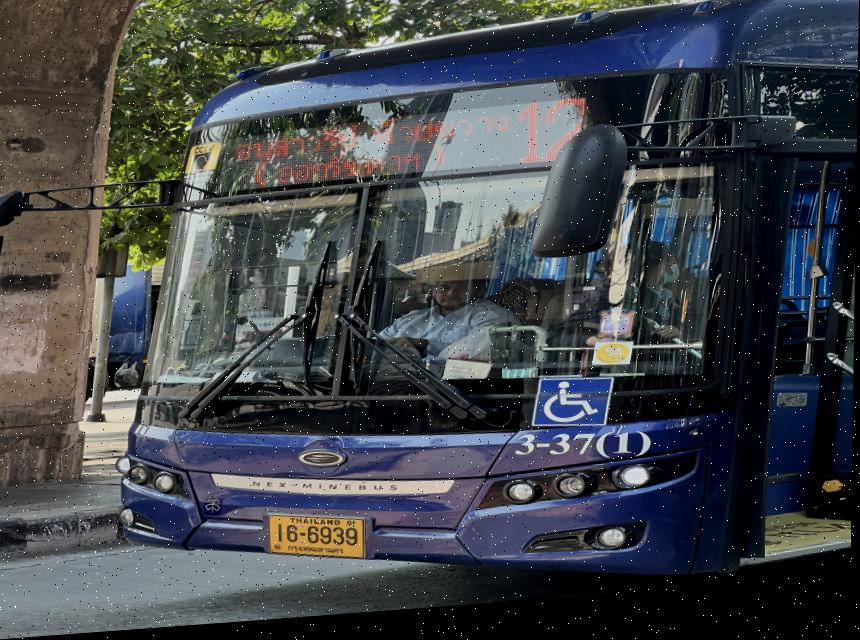Bus Line Number: (520, 97, 605, 176)
Bus Side Number: (504, 435, 659, 479)
Destination Sign: (213, 116, 520, 197)
TSB-Bus: (119, 5, 859, 589)
